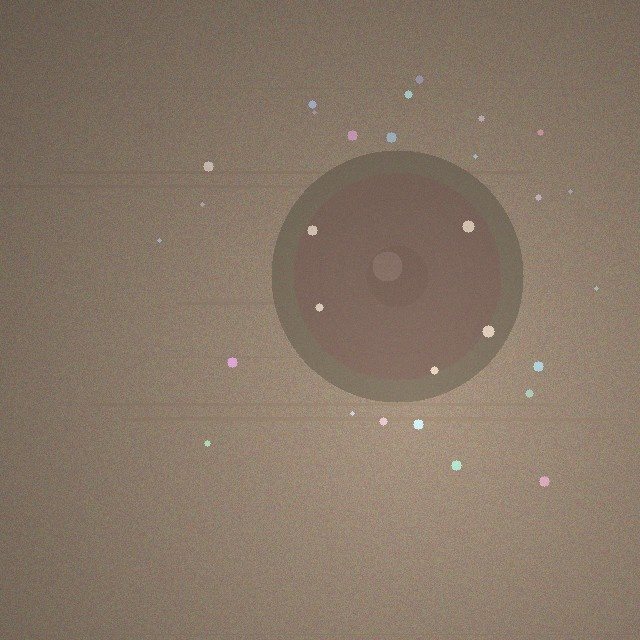overburn: (271, 150, 523, 402)
